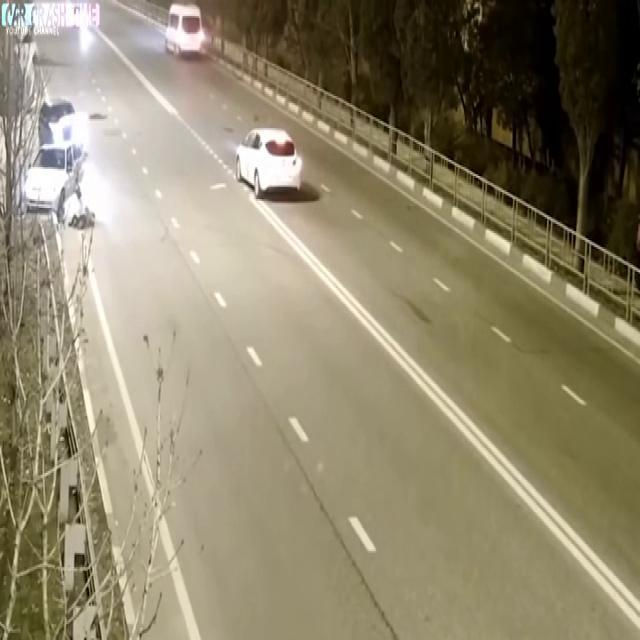multiple_accident: (0, 60, 150, 275)
normal: (225, 108, 347, 228), (140, 0, 237, 63)
